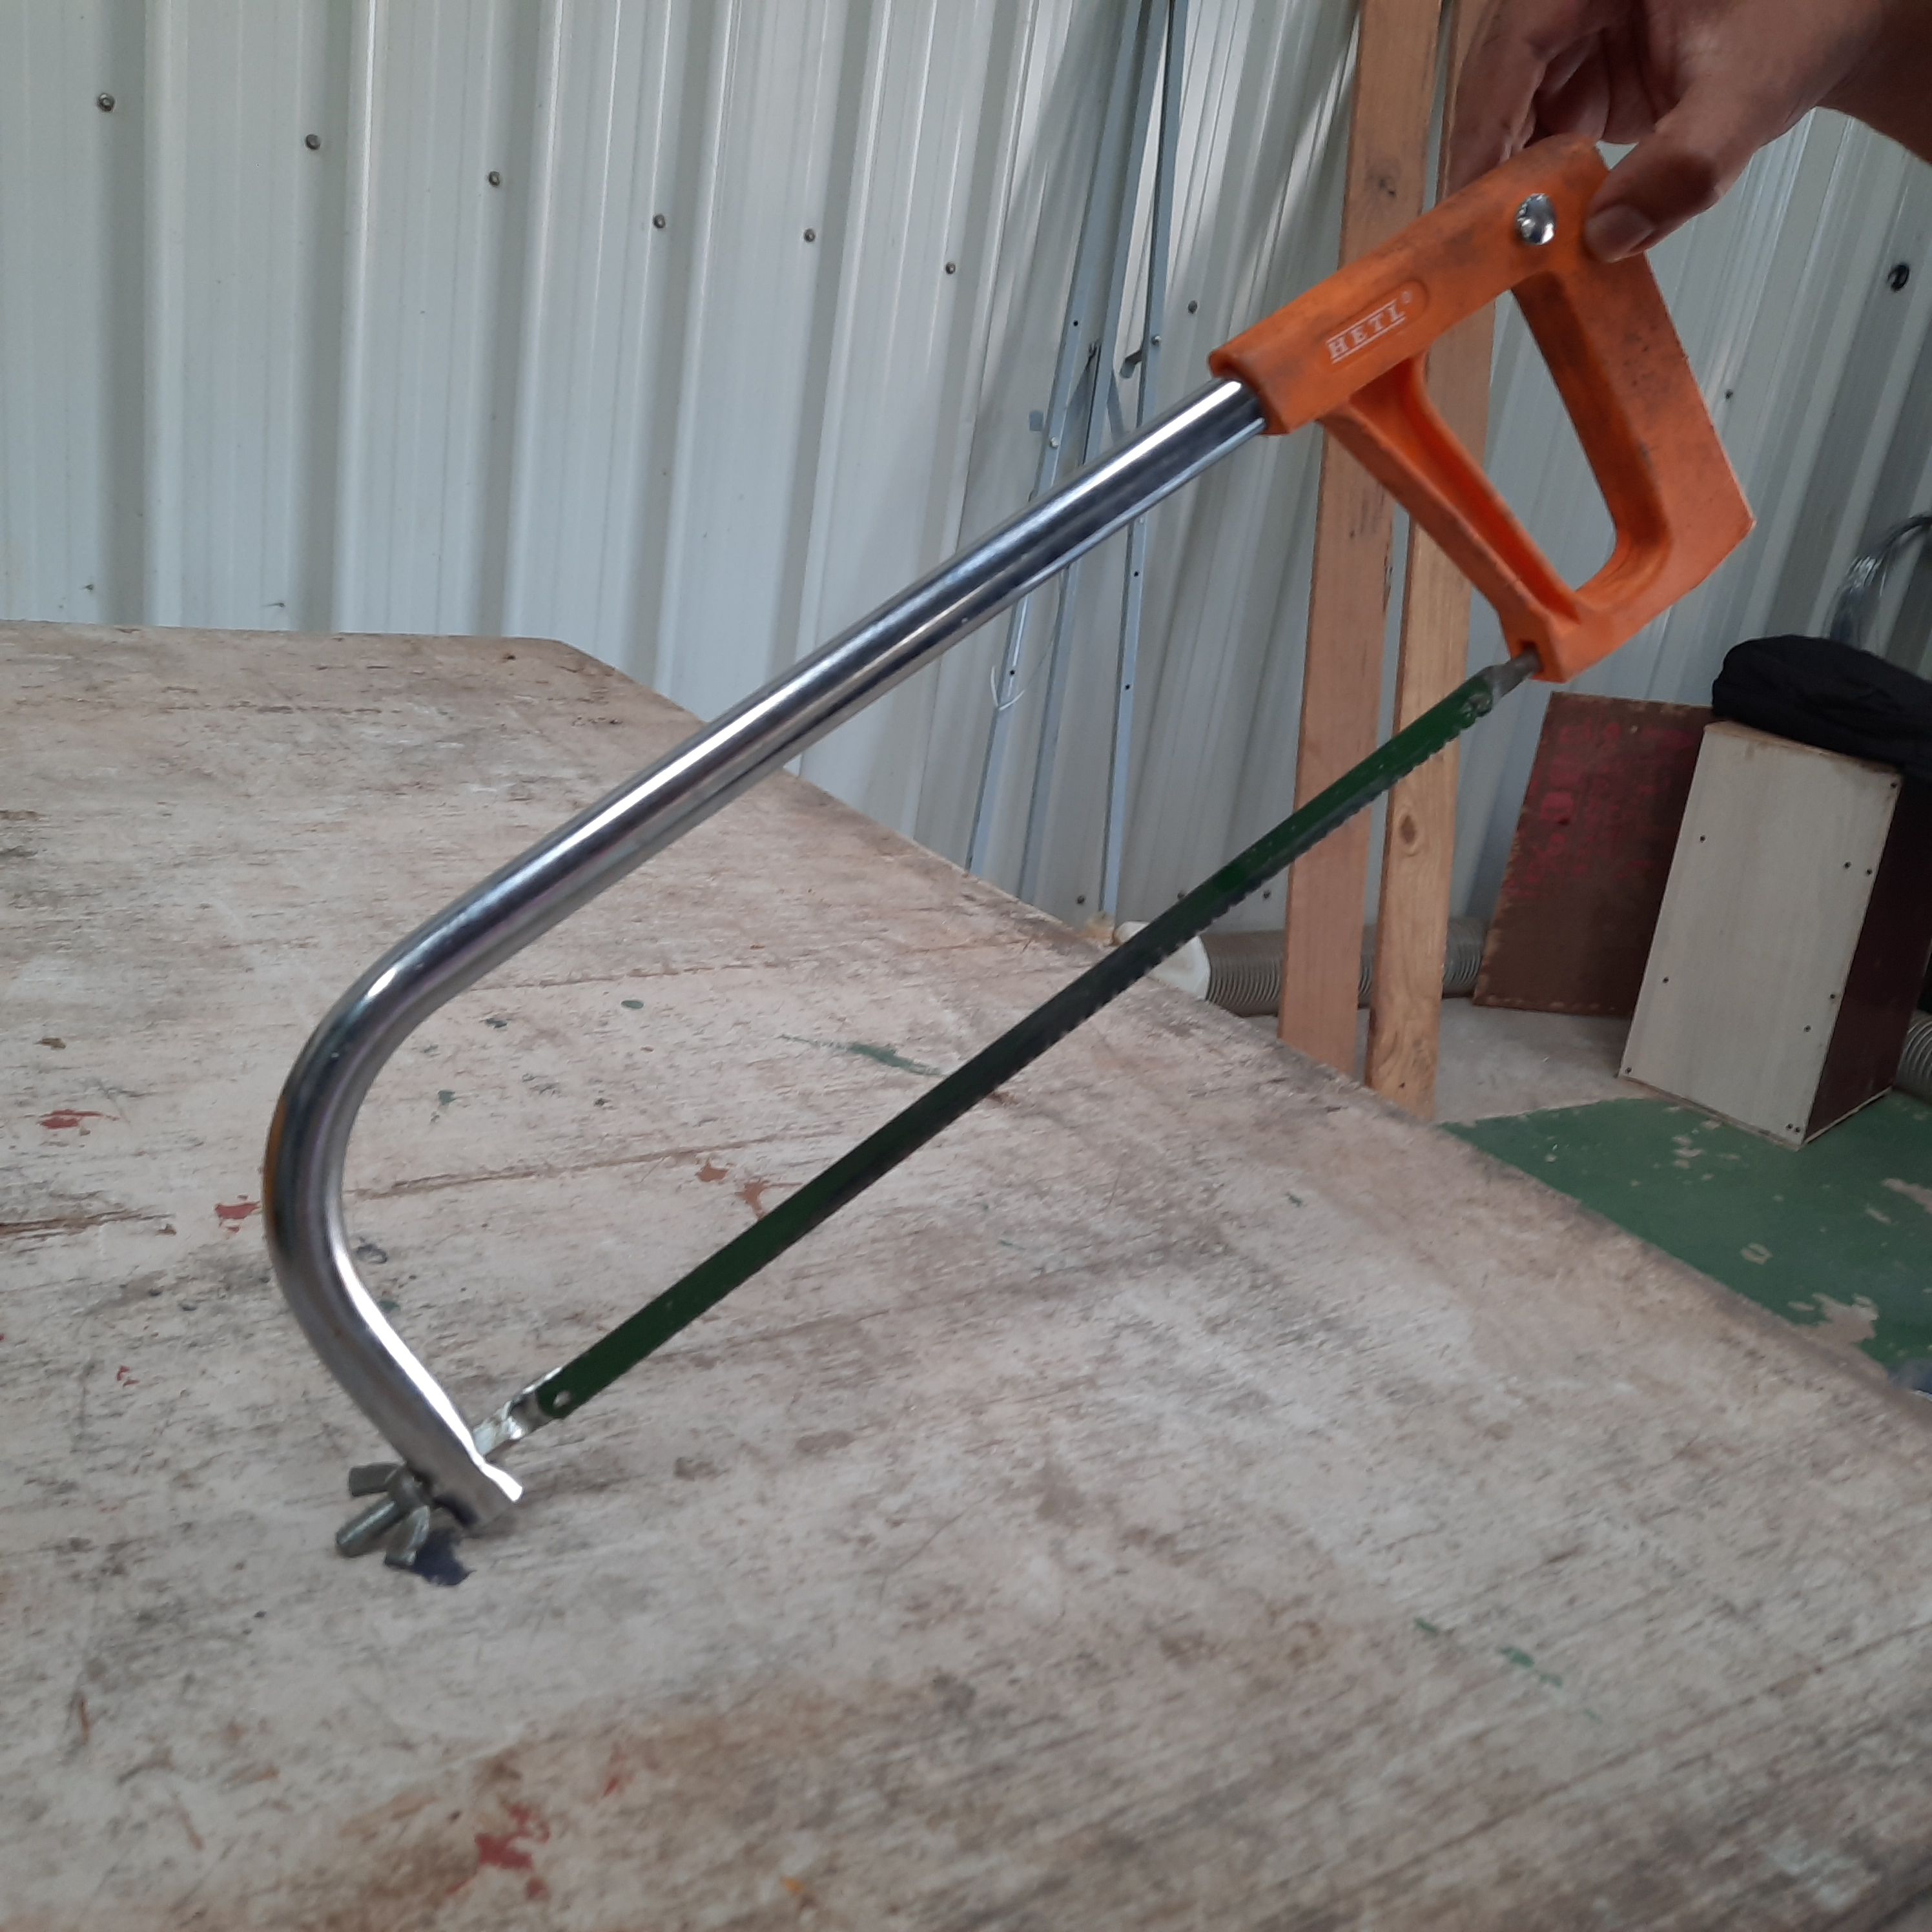Hexaframe: (258, 127, 1798, 1679)
